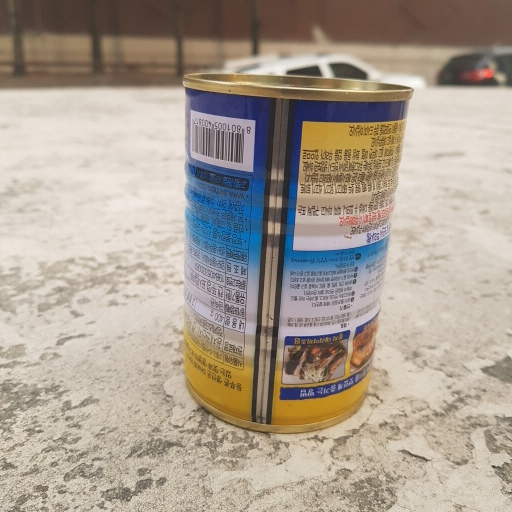Metal_1: (178, 70, 415, 434)
